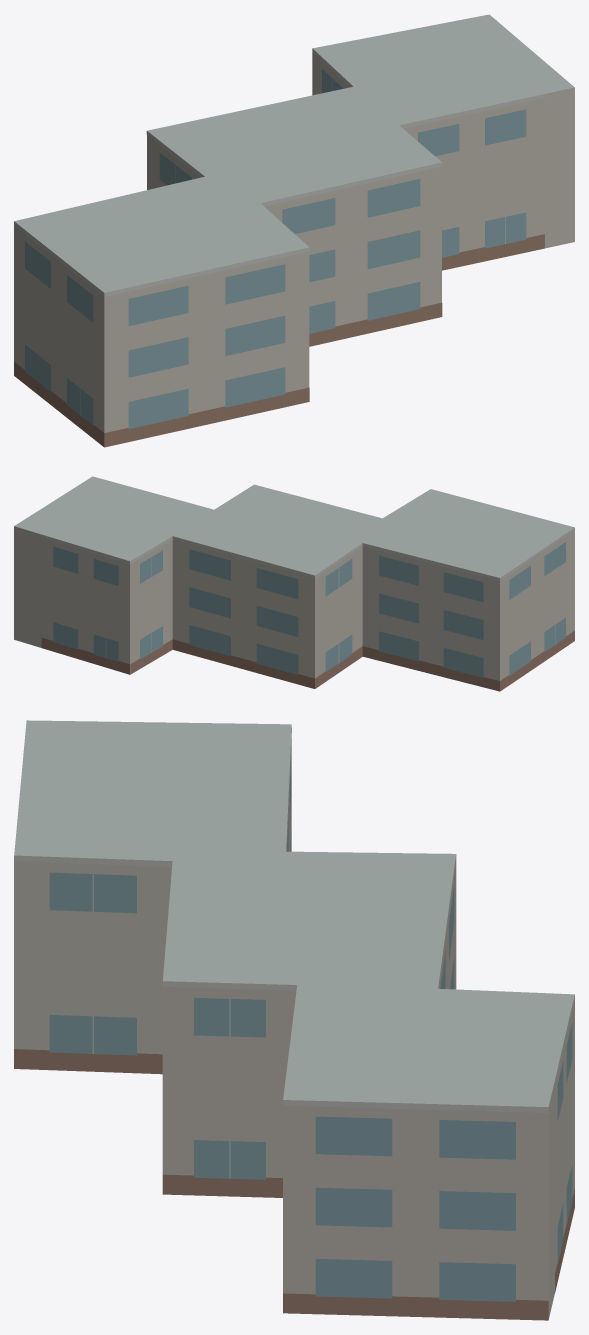
Rendered from survey-upis-32886322.glb.
3 renders of one model, top to bottom at view 1: azimuth 30°, elevation 25°; view 2: azimuth 150°, elevation 25°; view 3: azimuth 270°, elevation 25°, orthographic. The views are drawn at different scales.
Visible parts, largest first — view 1: survey-upis-32886322.tmp; view 2: survey-upis-32886322.tmp; view 3: survey-upis-32886322.tmp.
Boxes of the visible parts, x1,y1,x2,y2 form: survey-upis-32886322.tmp: (14, 14, 574, 447); survey-upis-32886322.tmp: (14, 476, 574, 691); survey-upis-32886322.tmp: (14, 720, 574, 1320).
Bounding box in the file's own units: 35.58 × 9.15 × 21.81.
